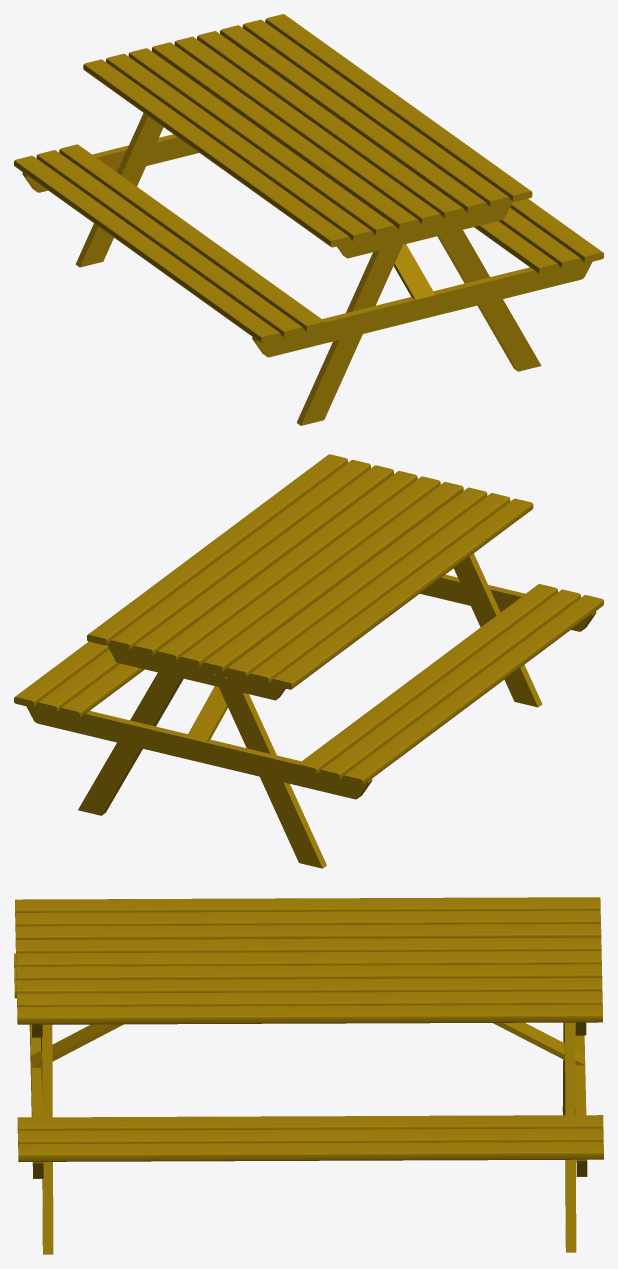
File: Table.fbx
3 views of the same model, one above another, from view 1: azimuth 30°, elevation 25°; view 2: azimuth 150°, elevation 25°; view 3: azimuth 270°, elevation 25° (orthographic). The views are drawn at different scales.
Parts seen in each view (by area): view 1: Table1; view 2: Table1; view 3: Table1.
Boxes of the visible parts, x1,y1,x2,y2 form: Table1: [14, 14, 603, 425]; Table1: [14, 454, 603, 868]; Table1: [14, 897, 603, 1254].
Size of the model in its own units: 187 by 96.08 by 228.
